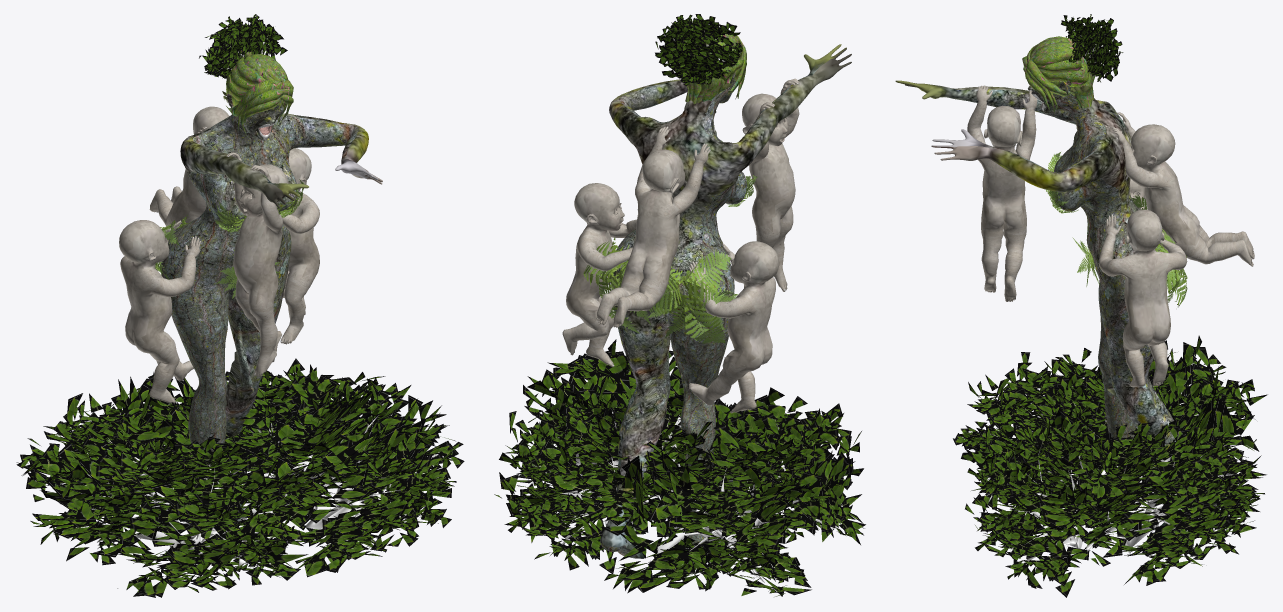
The model's file is compressed_1743454717153_maternity.glb.
3 renders of one model, left to right at view 1: azimuth 30°, elevation 25°; view 2: azimuth 150°, elevation 25°; view 3: azimuth 270°, elevation 25°, orthographic. The views are drawn at different scales.
Parts seen in each view (by area): view 1: tree.002, Body.002, CC_Base_Body, Hair, fern.001; view 2: tree.002, CC_Base_Body, Body.002, Hair, fern.001; view 3: tree.002, CC_Base_Body, Body.002, Hair, fern.001.
Boxes of the visible parts, x1=… form: tree.002: x1=16, y1=358, x2=464, y2=597; Body.002: x1=161, y1=58, x2=382, y2=558; CC_Base_Body: x1=119, y1=106, x2=319, y2=403; Hair: x1=199, y1=14, x2=293, y2=134; fern.001: x1=155, y1=179, x2=303, y2=298; tree.002: x1=494, y1=339, x2=865, y2=596; CC_Base_Body: x1=562, y1=78, x2=799, y2=413; Body.002: x1=600, y1=36, x2=851, y2=558; Hair: x1=655, y1=14, x2=746, y2=104; fern.001: x1=583, y1=175, x2=757, y2=344; tree.002: x1=953, y1=335, x2=1267, y2=597; CC_Base_Body: x1=967, y1=85, x2=1254, y2=387; Body.002: x1=895, y1=38, x2=1216, y2=533; Hair: x1=1022, y1=14, x2=1123, y2=113; fern.001: x1=1046, y1=152, x2=1187, y2=307.
Bounding box in the file's own units: 2.54 × 3.48 × 2.3.
Materials: 11 (5 with a texture image).
